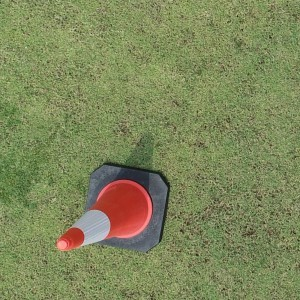traffic cone: (56, 164, 168, 251)
